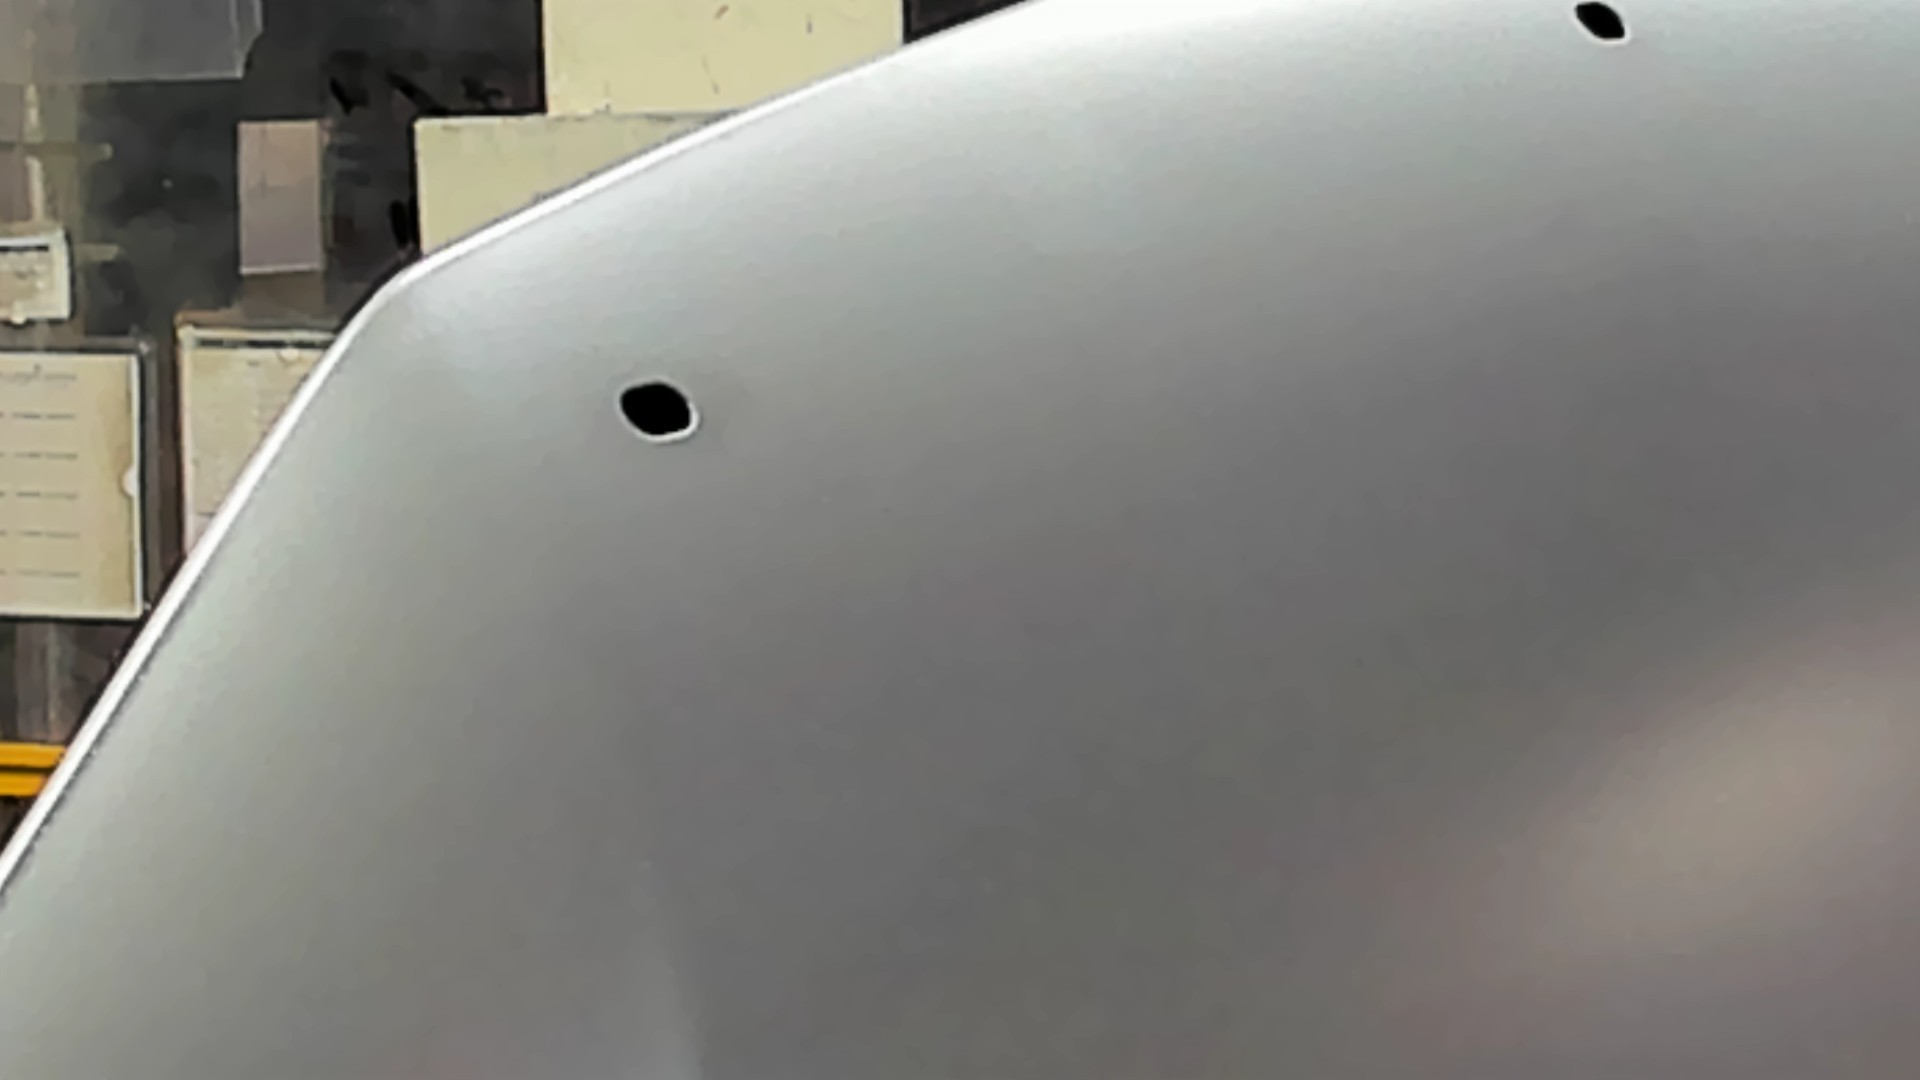amorfo: (615, 369, 705, 454), (1565, 1, 1633, 47)
capo: (837, 127, 1920, 1080)
